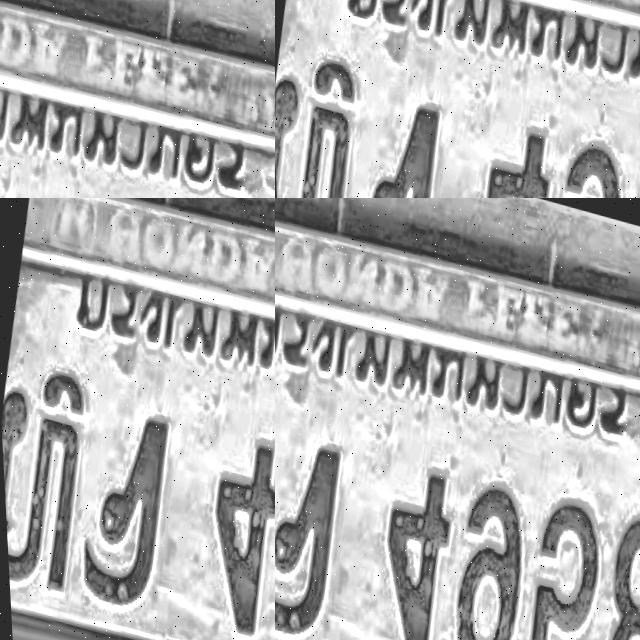license-plate: (275, 198, 640, 640), (275, 127, 610, 198), (2, 525, 180, 640)
